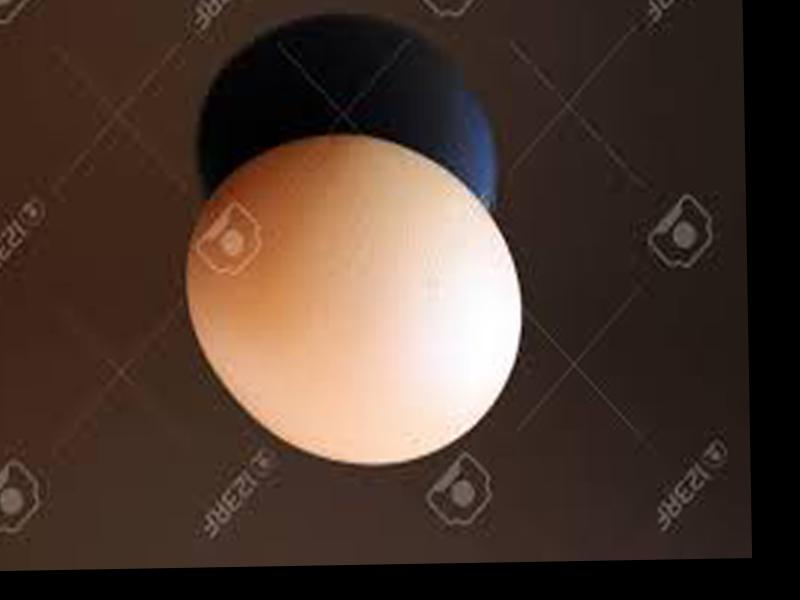Eggs: (185, 128, 525, 468)
